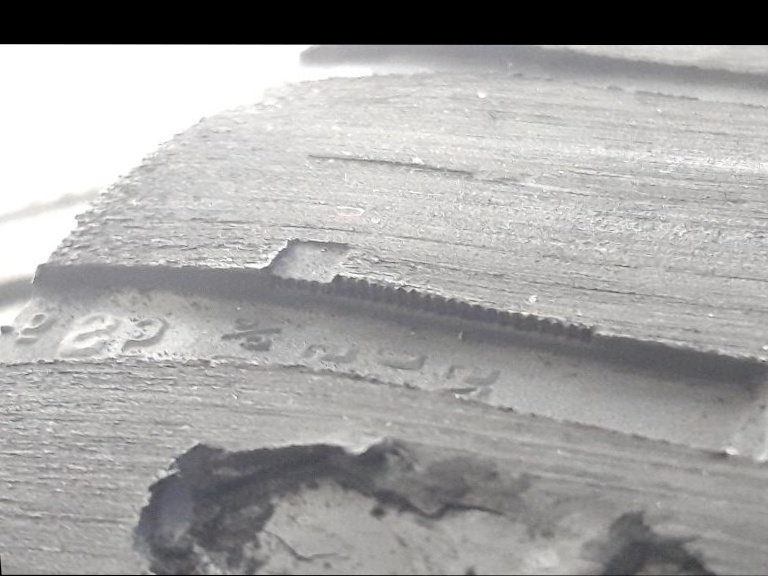temoin:0: (251, 232, 395, 323)
